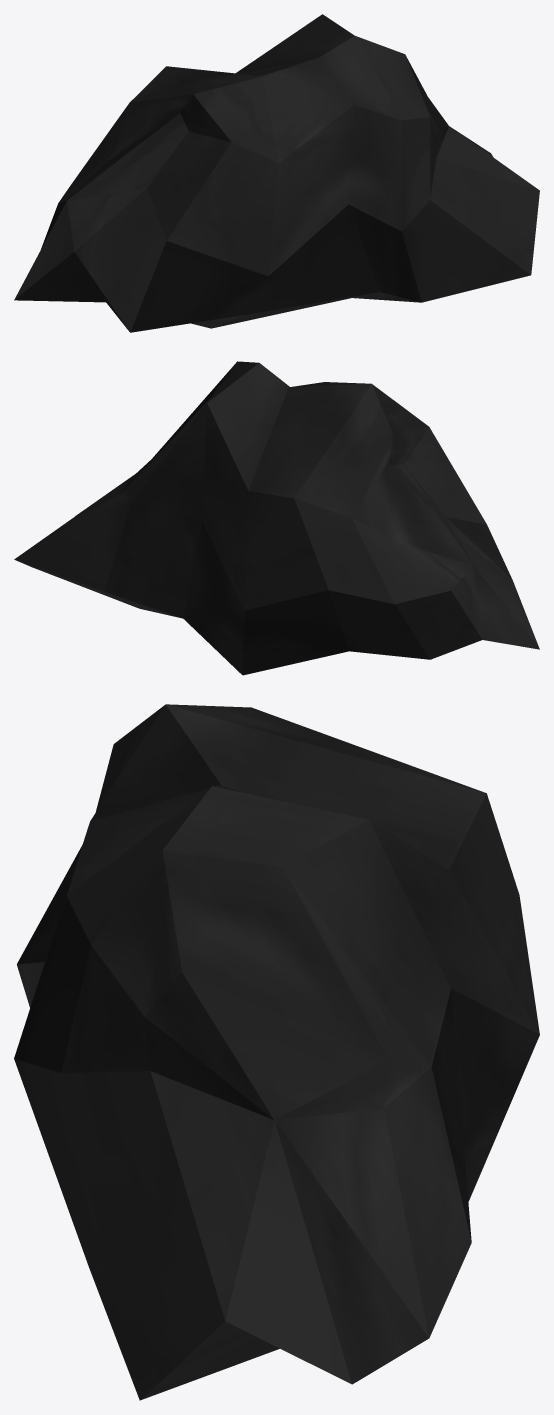
Rendered from rock_002.obj.
3 views of the same model, one above another, from view 1: azimuth 30°, elevation 25°; view 2: azimuth 150°, elevation 25°; view 3: azimuth 270°, elevation 25° (orthographic). The views are drawn at different scales.
Parts seen in each view (by area): view 1: Mesh; view 2: Mesh; view 3: Mesh.
Boxes of the visible parts, box(x1,y1,x2,y2) form: Mesh: box(14, 14, 539, 332); Mesh: box(14, 361, 539, 675); Mesh: box(14, 704, 539, 1400).
Size of the model in its own units: 1.83 by 0.9092 by 0.8916.
